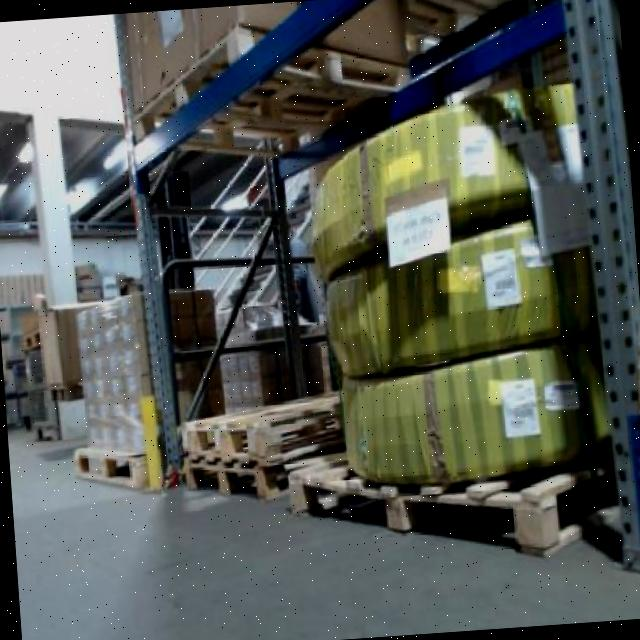pallet: (123, 14, 423, 168), (280, 441, 627, 568), (166, 376, 353, 506), (62, 436, 159, 501)
